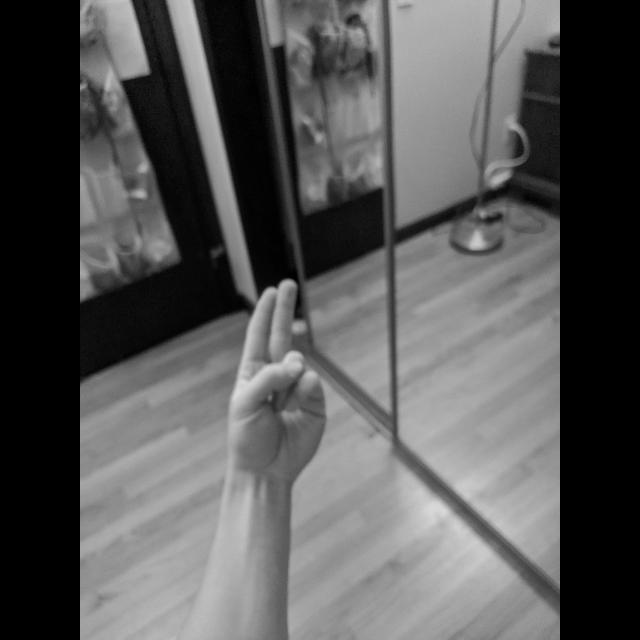U: (222, 275, 332, 491)
